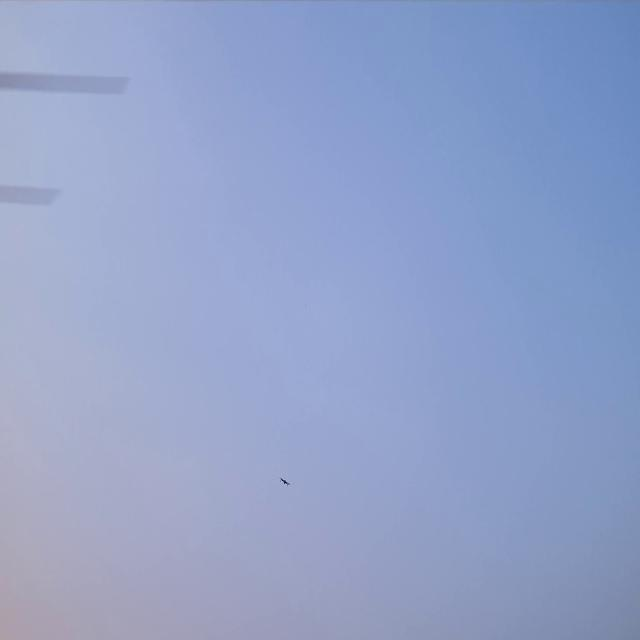UAV: (278, 477, 292, 488)
